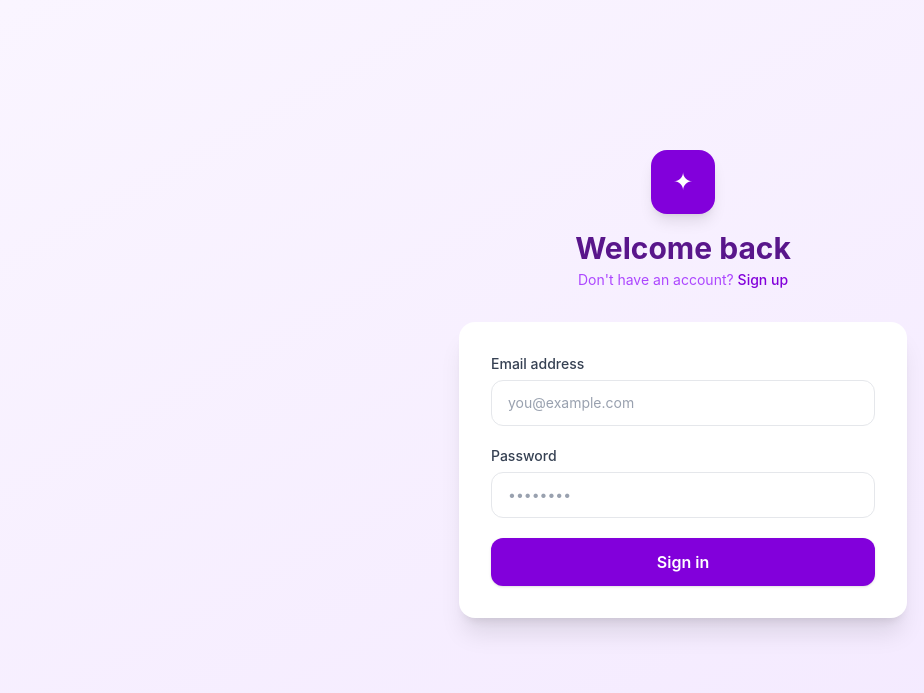
Test: LoginPage › shows the Devise invalid-credentials message returned by the API
The image size is (924, 693).
Type "demo@example.com" into the field labelled "Email address".
click(683, 403); type("demo@example.com")  # box x1=491 y1=380 x2=875 y2=426
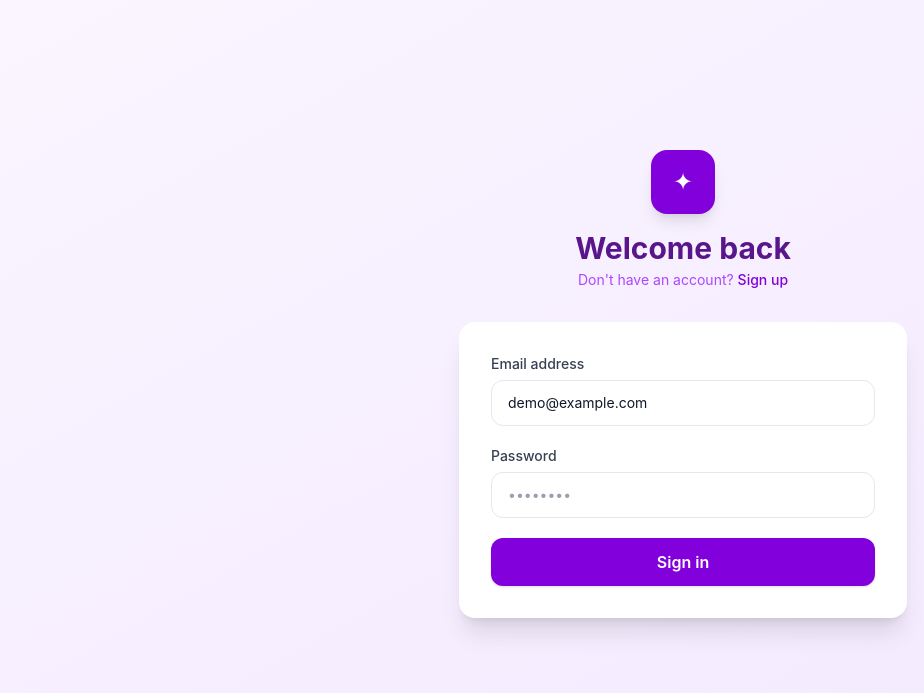
Type "wrong-password" into the password field labelled "Password".
click(683, 495); type("wrong-password")  # box x1=491 y1=472 x2=875 y2=518
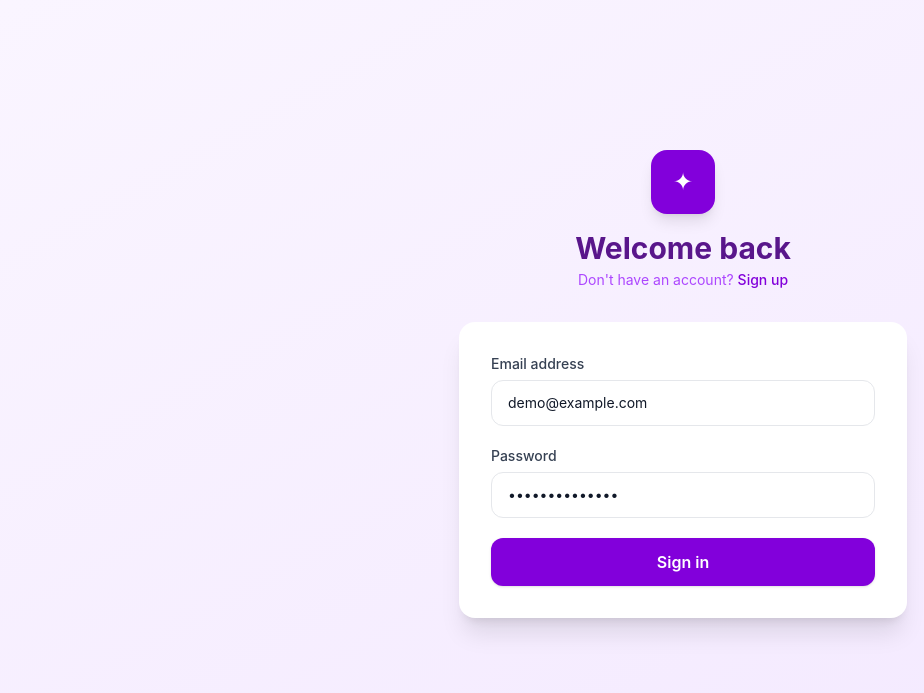
Click the button "Sign in".
click(683, 562)  # box x1=491 y1=538 x2=875 y2=586
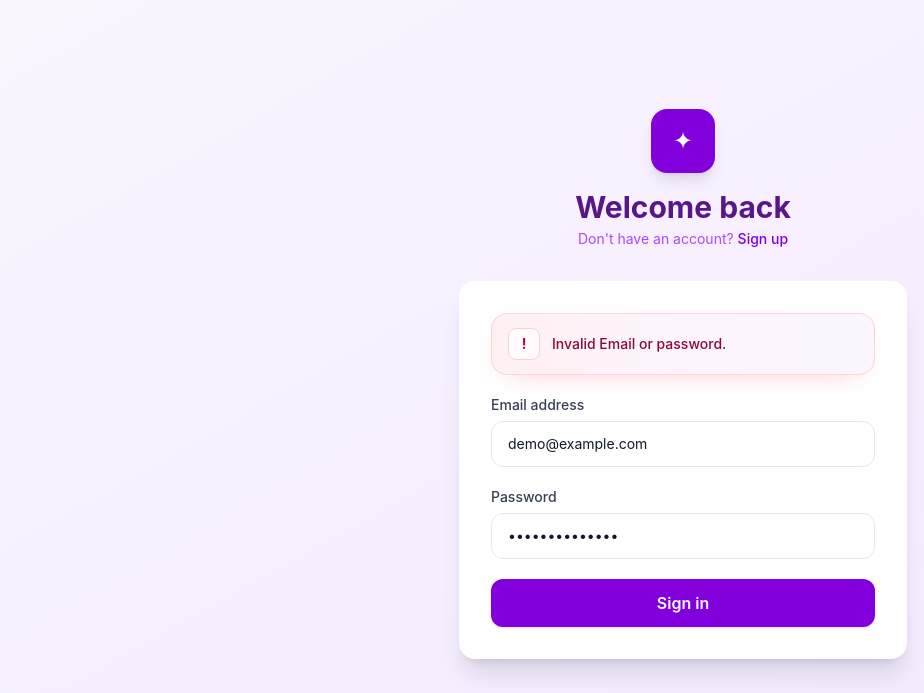
expect the text "Invalid Email or password." is shown: met, box x1=552 y1=334 x2=726 y2=354
